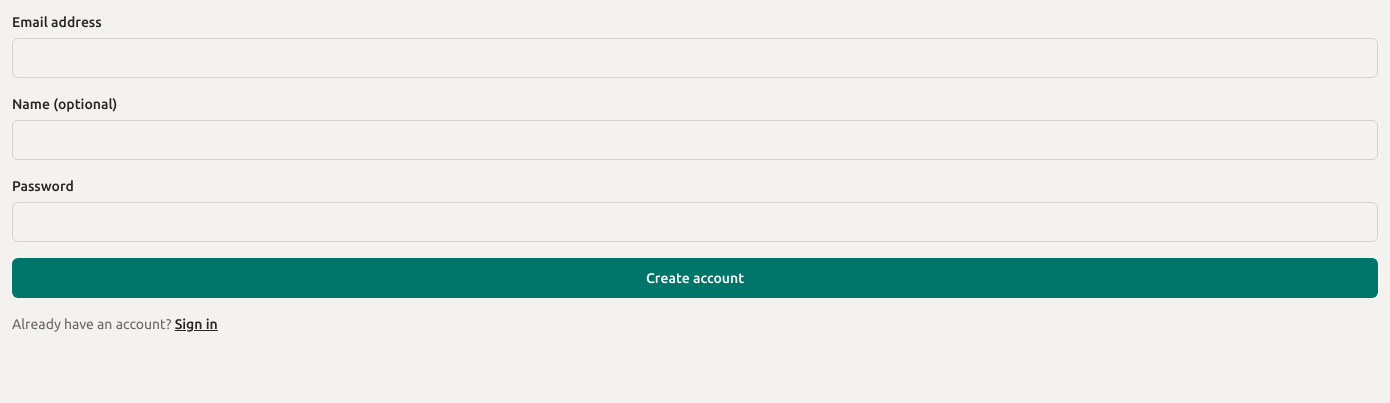
Test: RegisterForm › duplicate email (409) → clear non-leaky message, stays on the page
Type "taken@example.com" into the field labelled "Email address" at (695, 58), box [12,38,1378,78]
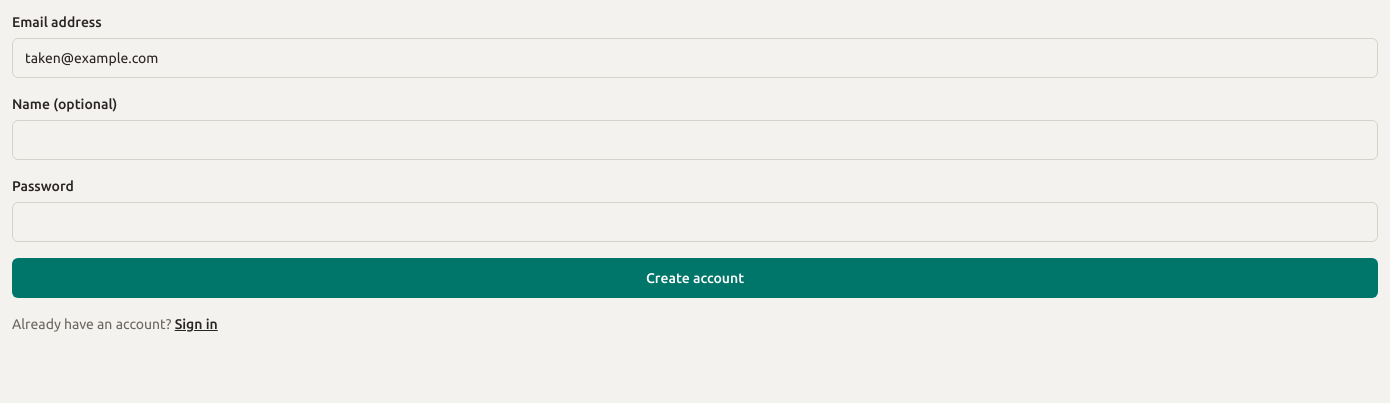
Type "a-strong-passphrase" into the password field labelled "Password" at (695, 222), box [12,202,1378,242]
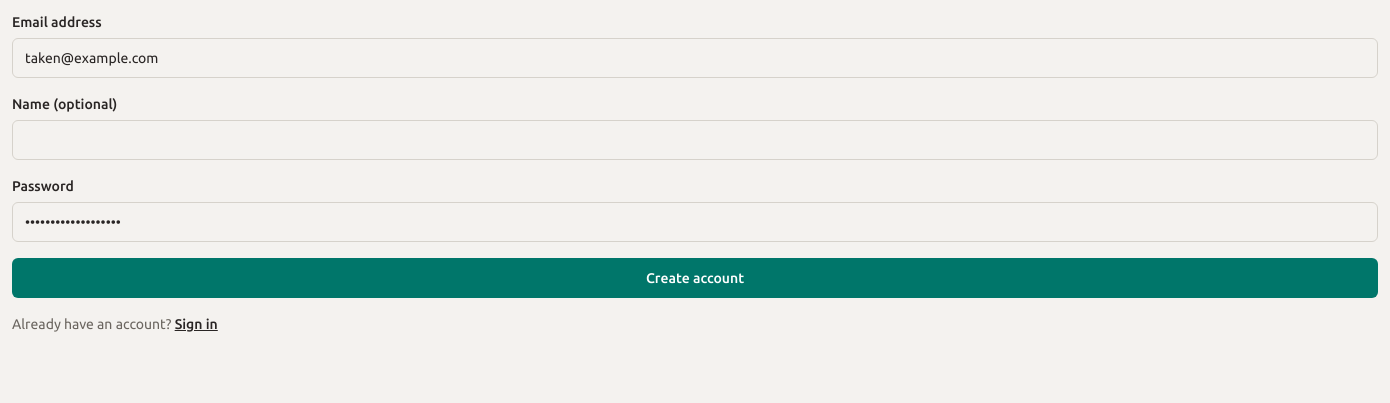
Click the button "Create account" at (695, 278), box [12,258,1378,298]
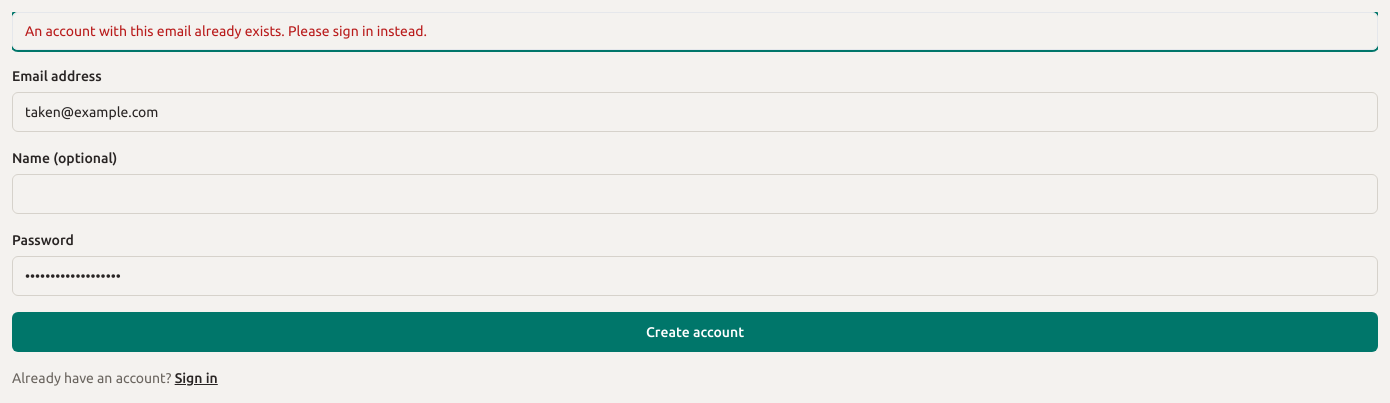
Check: the button "Create account" is enabled, box [12,312,1378,352]
Check: the message shows "already exists", box [25,23,427,39]
